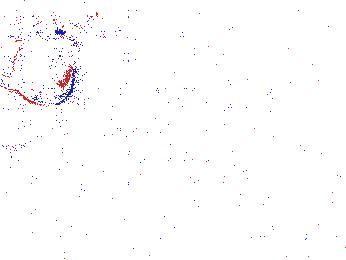moon jellyfish: (168, 33, 235, 128), (10, 31, 75, 107), (201, 49, 284, 97), (110, 41, 203, 82)
